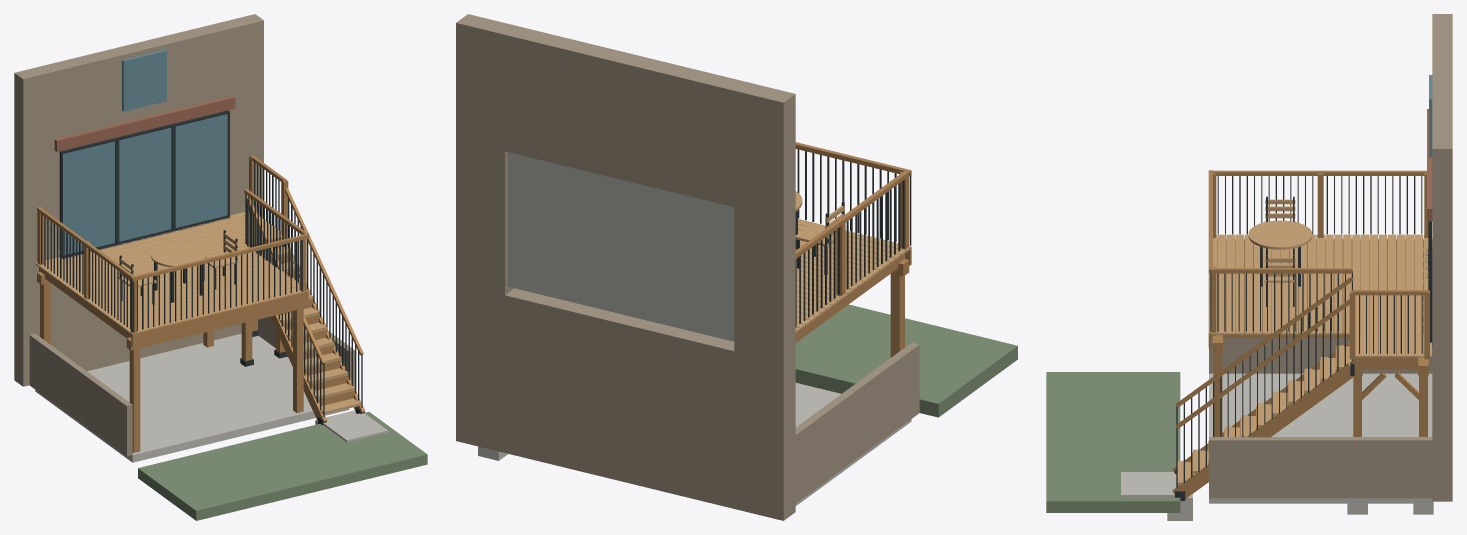
Rendered from southernhay-deck-concept.glb.
The picture shows the model from 3 angles, left to right: view 1: azimuth 30°, elevation 25°; view 2: azimuth 150°, elevation 25°; view 3: azimuth 270°, elevation 25°; orthographic projection. The views are drawn at different scales.
Parts seen in each view (by area): view 1: Patio surface; excavation depth illustrative, Glazing (×3), Masonry above glazing, Flat lawn reference, Deck board (×16), House below sill, Retaining side placeholder; design required (×2), Left masonry pier, Right masonry pier, Indicative post (×3), Front fascia, Brick lintel (+8 smaller); view 2: House below sill, Masonry above glazing, Interior behind door opening, Left masonry pier, Flat lawn reference, Right masonry pier, Retaining side placeholder; design required, Handrail (×2), Patio surface; excavation depth illustrative, Indicative post, Indicative joist; view 3: Retaining side placeholder; design required (×2), Flat lawn reference, Deck board (×23), Patio surface; excavation depth illustrative, Masonry above glazing, Right masonry pier, House below sill, Handrail (×3), Stair stringer, Stair handrail (×2), Round table diameter 1.00m, Lawn landing 0.85m nominal (+6 smaller).
Boxes of the visible parts, left/top/right/bottom form: Patio surface; excavation depth illustrative: left=35, top=334, right=349, bottom=462; Glazing (×3): left=63, top=114, right=227, bottom=255; Masonry above glazing: left=14, top=14, right=263, bottom=161; Flat lawn reference: left=138, top=412, right=427, bottom=520; Deck board (×16): left=39, top=223, right=306, bottom=335; House below sill: left=14, top=212, right=262, bottom=386; Retaining side placeholder; design required (×2): left=29, top=317, right=354, bottom=456; Left masonry pier: left=14, top=118, right=59, bottom=278; Right masonry pier: left=228, top=68, right=263, bottom=217; Indicative post (×3): left=40, top=283, right=303, bottom=452; Front fascia: left=131, top=290, right=308, bottom=347; Brick lintel: left=54, top=95, right=235, bottom=151; House below sill: left=456, top=284, right=795, bottom=520; Masonry above glazing: left=456, top=14, right=795, bottom=217; Interior behind door opening: left=507, top=152, right=734, bottom=341; Left masonry pier: left=734, top=156, right=795, bottom=373; Flat lawn reference: left=795, top=304, right=1017, bottom=417; Right masonry pier: left=456, top=88, right=514, bottom=305; Retaining side placeholder; design required: left=795, top=342, right=919, bottom=503; Handrail (×2): left=795, top=142, right=911, bottom=258; Patio surface; excavation depth illustrative: left=795, top=383, right=911, bottom=505; Indicative post: left=890, top=274, right=904, bottom=357; Indicative joist: left=795, top=253, right=905, bottom=342; Retaining side placeholder; design required (×2): left=1209, top=338, right=1432, bottom=498; Flat lawn reference: left=1046, top=372, right=1180, bottom=512; Deck board (×23): left=1218, top=234, right=1422, bottom=334; Patio surface; excavation depth illustrative: left=1209, top=373, right=1432, bottom=503; Masonry above glazing: left=1432, top=14, right=1452, bottom=247; Right masonry pier: left=1432, top=203, right=1452, bottom=377; House below sill: left=1432, top=368, right=1452, bottom=501; Handrail (×3): left=1208, top=170, right=1426, bottom=273; Stair stringer: left=1172, top=363, right=1356, bottom=501; Stair handrail (×2): left=1176, top=276, right=1353, bottom=428; Round table diameter 1.00m: left=1248, top=220, right=1312, bottom=249; Lawn landing 0.85m nominal: left=1121, top=472, right=1176, bottom=497.
Bounding box in the file's own units: 5 × 6.55 × 6.37.
